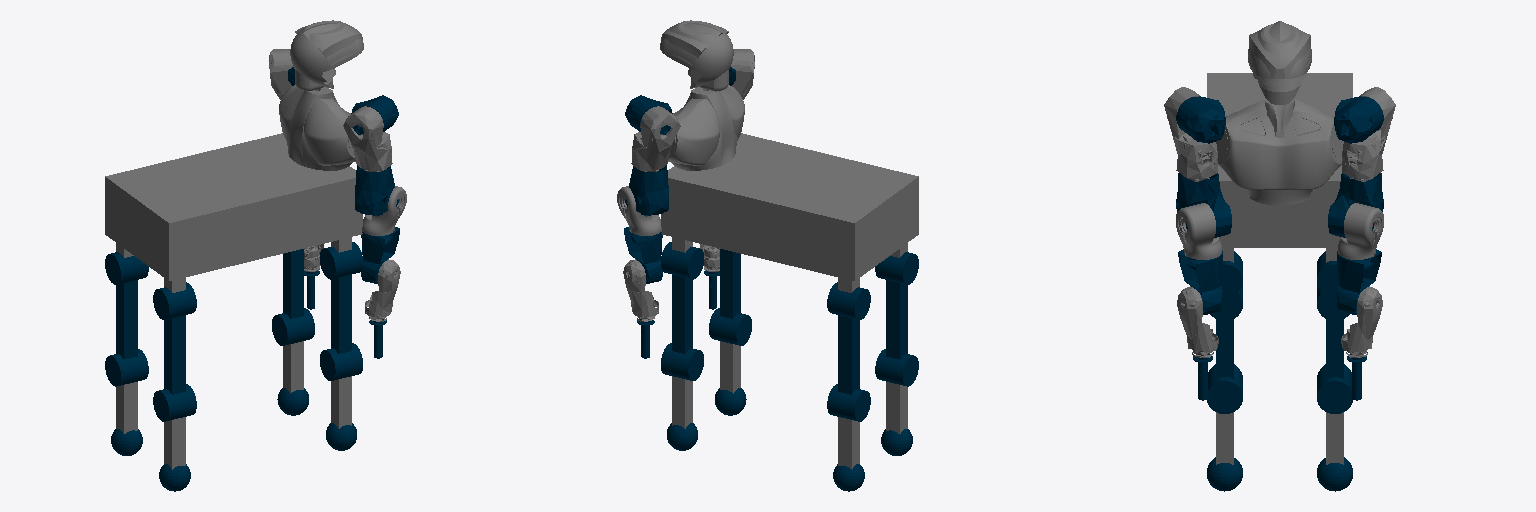
--- Facts derived from the render (not from the file) ---
3 views of the same robot in one strip: view 1: azimuth 30°, elevation 25°; view 2: azimuth 150°, elevation 25°; view 3: azimuth 270°, elevation 25° (orthographic).
Robot: centauro — 29 links, 28 joints (27 revolute, 1 floating); root link world; default pose: every joint at zero.
Visible links, largest first — view 1: pelvis, torso_2, knee_3, knee_4, knee_2, knee_1, hip2_3, hip2_2, hip2_4, arm2_2, arm2_3, hip2_1 (+5 smaller); view 2: pelvis, torso_2, knee_4, knee_3, knee_1, knee_2, hip2_4, hip2_1, hip2_3, arm1_2, arm1_3, hip2_2 (+5 smaller); view 3: torso_2, pelvis, knee_1, knee_2, arm1_2, arm2_2, hip2_1, hip2_2, arm1_4, arm2_4, arm1_1, arm2_1 (+6 smaller).
Boxes of the visible links, x1,y1,x2,y2 form: pelvis: [105, 133, 362, 280]; torso_2: [279, 20, 363, 170]; knee_3: [153, 384, 196, 491]; knee_4: [105, 349, 148, 455]; knee_2: [320, 343, 362, 450]; knee_1: [272, 308, 314, 415]; hip2_3: [153, 282, 196, 394]; hip2_2: [320, 242, 362, 353]; hip2_4: [105, 252, 148, 359]; arm2_2: [343, 106, 392, 171]; arm2_3: [355, 165, 398, 216]; hip2_1: [283, 249, 303, 318]; pelvis: [661, 133, 918, 280]; torso_2: [660, 20, 744, 170]; knee_4: [827, 384, 870, 491]; knee_3: [875, 349, 918, 455]; knee_1: [661, 343, 703, 450]; knee_2: [709, 308, 751, 415]; hip2_4: [827, 282, 870, 394]; hip2_1: [661, 242, 703, 353]; hip2_3: [875, 252, 918, 359]; arm1_2: [631, 106, 680, 171]; arm1_3: [625, 165, 668, 216]; hip2_2: [720, 249, 740, 318]; torso_2: [1216, 21, 1343, 205]; pelvis: [1207, 73, 1352, 247]; knee_1: [1317, 368, 1352, 491]; knee_2: [1207, 368, 1242, 491]; arm1_2: [1342, 87, 1395, 181]; arm2_2: [1164, 87, 1217, 181]; hip2_1: [1317, 251, 1343, 378]; hip2_2: [1216, 251, 1242, 378]; arm1_4: [1338, 203, 1383, 259]; arm2_4: [1176, 203, 1221, 259]; arm1_1: [1334, 96, 1383, 143]; arm2_1: [1176, 96, 1225, 143].
Bounding box of the posed robot: 0.8353 × 0.6319 × 1.4 m (x, y, z).
15 mesh visuals loaded from 8 distinct referenced files (8 binary STL).

The robot description file, URDF, robot "centauro":
<?xml version="1.0" ?>
<!-- =================================================================================== -->
<!-- |    This document was autogenerated by xacro from [local-path]/catkin_ws/src/centauro-simulator/centauro/centauro_urdf/urdf/centauro.urdf.xacro | -->
<!-- |    EDITING THIS FILE BY HAND IS NOT RECOMMENDED                                 | -->
<!-- =================================================================================== -->
<robot name="centauro" xmlns:xacro="http://www.ros.org/wiki/xacro">
  <!-- config -->
  <!--
<xacro:property name="ARMS" value="true"/>
<xacro:property name="TORSO" value="true" />
<xacro:property name="ARM_ACTUATORS" value="true"/> 
<xacro:property name="LEGS" value="true"/>
<xacro:property name="LEG_ACTUATORS" value="true"/>

<xacro:property name="TORSO_ACTUATORS" value="true"/>
<xacro:property name="WHEELS" value="true"/>
<xacro:property name="WHEELS_ACTUATORS" value="true"/>-->
  <!-- /config -->
  <!-- /constants -->
  <!-- CONTROLLER -->
  <gazebo>
    <plugin filename="libgazebo_ros_control.so" name="gazebo_ros_control">
      <robotNamespace>/centauro</robotNamespace>
      <robotSimType>gazebo_ros_control/DefaultRobotHWSim</robotSimType>
    </plugin>
  </gazebo>
  <!-- /CONTROLLER -->
  <!-- ARM SENSORS -->
  <!-- FORCE-TORQUE SENSORS -->
  <!--<gazebo>
    <plugin name="ft_sensor" filename="libgazebo_ros_ft_sensor.so">
        <updateRate>100.0</updateRate>
        <topicName>arm_</topicName>
        <jointName>foot_fixed_joint_1</jointName>
    </plugin>
</gazebo>-->
  <!-- /ARM SENSORS -->
  <!-- LEG SENSORS -->
  <!-- CONTACT SENSORS -->
  <gazebo reference="knee_1">
    <sensor name="foot_contact_sensor_1" type="contact">
      <always_on>true</always_on>
      <update_rate>1000.0</update_rate>
      <contact>
        <collision>knee_1_collision_1</collision>
      </contact>
      <plugin filename="libgazebo_ros_bumper.so" name="bumper_1">
        <bumperTopicName>raw_contacts_foot_1</bumperTopicName>
        <frameName>knee_1</frameName>
      </plugin>
    </sensor>
  </gazebo>
  <gazebo reference="knee_2">
    <sensor name="foot_contact_sensor_2" type="contact">
      <always_on>true</always_on>
      <update_rate>1000.0</update_rate>
      <contact>
        <collision>knee_2_collision_1</collision>
      </contact>
      <plugin filename="libgazebo_ros_bumper.so" name="bumper_2">
        <bumperTopicName>raw_contacts_foot_2</bumperTopicName>
        <frameName>knee_2</frameName>
      </plugin>
    </sensor>
  </gazebo>
  <gazebo reference="knee_3">
    <sensor name="foot_contact_sensor_3" type="contact">
      <always_on>true</always_on>
      <update_rate>1000.0</update_rate>
      <contact>
        <collision>knee_3_collision_1</collision>
      </contact>
      <plugin filename="libgazebo_ros_bumper.so" name="bumper_3">
        <bumperTopicName>raw_contacts_foot_3</bumperTopicName>
        <frameName>knee_3</frameName>
      </plugin>
    </sensor>
  </gazebo>
  <gazebo reference="knee_4">
    <sensor name="foot_contact_sensor_4" type="contact">
      <always_on>true</always_on>
      <update_rate>1000.0</update_rate>
      <contact>
        <collision>knee_4_collision_1</collision>
      </contact>
      <plugin filename="libgazebo_ros_bumper.so" name="bumper_4">
        <bumperTopicName>raw_contacts_foot_4</bumperTopicName>
        <frameName>knee_4</frameName>
      </plugin>
    </sensor>
  </gazebo>
  <!-- /CONTACT SENSORS -->
  <!-- FORCE-TORQUE SENSORS -->
  <!--<gazebo>
    <plugin name="ft_sensor" filename="libgazebo_ros_ft_sensor.so">
        <updateRate>100.0</updateRate>
        <topicName>ft_sensor_1</topicName>
        <jointName>foot_fixed_joint_1</jointName>
    </plugin>
</gazebo>-->
  <!-- The ft_sensor plugin -->
  <!--<gazebo>
    <plugin name="ft_sensor" filename="libgazebo_ros_ft_sensor.so">
        <updateRate>100.0</updateRate>
        <topicName>ft_sensor_2</topicName>
        <jointName>foot_fixed_joint_2</jointName>
    </plugin>
</gazebo>-->
  <!-- The ft_sensor plugin -->
  <!--<gazebo>
    <plugin name="ft_sensor" filename="libgazebo_ros_ft_sensor.so">
        <updateRate>100.0</updateRate>
        <topicName>ft_sensor_3</topicName>
        <jointName>foot_fixed_joint_3</jointName>
    </plugin>
</gazebo>-->
  <!-- The ft_sensor plugin -->
  <!--<gazebo>
    <plugin name="ft_sensor" filename="libgazebo_ros_ft_sensor.so">
        <updateRate>100.0</updateRate>
        <topicName>ft_sensor_4</topicName>
        <jointName>foot_fixed_joint_4</jointName>
    </plugin>
</gazebo>-->
  <!-- FORCE-TORQUE SENSORS -->
  <!-- /LEG SENSORS -->
  <!-- VISUALiZATION AND FRICTION -->
  <gazebo reference="base_link">
    <material>Gazebo/Red</material>
  </gazebo>
  <gazebo reference="pelvis">
    <material>Gazebo/Blue</material>
    <mu1>1</mu1>
    <mu2>1</mu2>
  </gazebo>
  <gazebo reference="torso_1">
    <mu1>1</mu1>
    <mu2>1</mu2>
    <material>Gazebo/Grey</material>
  </gazebo>
  <gazebo reference="torso_2">
    <material>Gazebo/Blue</material>
    <mu1>1</mu1>
    <mu2>1</mu2>
  </gazebo>
  <gazebo reference="hip1_1">
    <material>Gazebo/Grey</material>
    <mu1>1</mu1>
    <mu2>1</mu2>
  </gazebo>
  <gazebo reference="hip1_2">
    <material>Gazebo/Grey</material>
    <mu1>1</mu1>
    <mu2>1</mu2>
  </gazebo>
  <gazebo reference="hip1_3">
    <material>Gazebo/Grey</material>
    <mu1>1</mu1>
    <mu2>1</mu2>
  </gazebo>
  <gazebo reference="hip1_4">
    <material>Gazebo/Grey</material>
    <mu1>1</mu1>
    <mu2>1</mu2>
  </gazebo>
  <gazebo reference="hip2_1">
    <material>Gazebo/Blue</material>
    <mu1>1</mu1>
    <mu2>1</mu2>
  </gazebo>
  <gazebo reference="hip2_2">
    <material>Gazebo/Blue</material>
    <mu1>1</mu1>
    <mu2>1</mu2>
  </gazebo>
  <gazebo reference="hip2_3">
    <material>Gazebo/Blue</material>
    <mu1>1</mu1>
    <mu2>1</mu2>
  </gazebo>
  <gazebo reference="hip2_4">
    <material>Gazebo/Blue</material>
    <mu1>1</mu1>
    <mu2>1</mu2>
  </gazebo>
  <gazebo reference="knee_1">
    <material>Gazebo/Grey</material>
    <mu1>10</mu1>
    <mu2>10</mu2>
  </gazebo>
  <gazebo reference="knee_2">
    <material>Gazebo/Grey</material>
    <mu1>10</mu1>
    <mu2>10</mu2>
  </gazebo>
  <gazebo reference="knee_3">
    <material>Gazebo/Grey</material>
    <mu1>10</mu1>
    <mu2>10</mu2>
  </gazebo>
  <gazebo reference="knee_4">
    <material>Gazebo/Grey</material>
    <mu1>10</mu1>
    <mu2>10</mu2>
  </gazebo>
  <gazebo reference="arm1_1">
    <material>Gazebo/Blue</material>
    <mu1>0</mu1>
    <mu2>0</mu2>
  </gazebo>
  <gazebo reference="arm2_1">
    <material>Gazebo/Blue</material>
    <mu1>0</mu1>
    <mu2>0</mu2>
  </gazebo>
  <gazebo reference="arm1_2">
    <material>Gazebo/Grey</material>
    <mu1>0</mu1>
    <mu2>0</mu2>
  </gazebo>
  <gazebo reference="arm2_2">
    <material>Gazebo/Grey</material>
    <mu1>0</mu1>
    <mu2>0</mu2>
  </gazebo>
  <gazebo reference="arm1_3">
    <material>Gazebo/Blue</material>
    <mu1>0</mu1>
    <mu2>0</mu2>
  </gazebo>
  <gazebo reference="arm2_3">
    <material>Gazebo/Blue</material>
    <mu1>0</mu1>
    <mu2>0</mu2>
  </gazebo>
  <gazebo reference="arm1_4">
    <material>Gazebo/Grey</material>
    <mu1>0</mu1>
    <mu2>0</mu2>
  </gazebo>
  <gazebo reference="arm2_4">
    <material>Gazebo/Grey</material>
    <mu1>0</mu1>
    <mu2>0</mu2>
  </gazebo>
  <gazebo reference="arm1_5">
    <material>Gazebo/Blue</material>
    <mu1>0</mu1>
    <mu2>0</mu2>
  </gazebo>
  <gazebo reference="arm2_5">
    <material>Gazebo/Blue</material>
    <mu1>0</mu1>
    <mu2>0</mu2>
  </gazebo>
  <gazebo reference="arm1_6">
    <material>Gazebo/Grey</material>
    <mu1>0</mu1>
    <mu2>0</mu2>
  </gazebo>
  <gazebo reference="arm2_6">
    <material>Gazebo/Grey</material>
    <mu1>0</mu1>
    <mu2>0</mu2>
  </gazebo>
  <gazebo reference="arm1_7">
    <material>Gazebo/Blue</material>
    <mu1>0</mu1>
    <mu2>0</mu2>
  </gazebo>
  <gazebo reference="arm2_7">
    <material>Gazebo/Blue</material>
    <mu1>0</mu1>
    <mu2>0</mu2>
  </gazebo>
  <gazebo reference="wheel_hip_1">
    <material>Gazebo/Black</material>
  </gazebo>
  <gazebo reference="wheel_hip_2">
    <material>Gazebo/Black</material>
  </gazebo>
  <gazebo reference="wheel_hip_3">
    <material>Gazebo/Black</material>
  </gazebo>
  <gazebo reference="wheel_hip_4">
    <material>Gazebo/Black</material>
  </gazebo>
  <gazebo reference="wheel_knee_1">
    <material>Gazebo/Black</material>
  </gazebo>
  <gazebo reference="wheel_knee_2">
    <material>Gazebo/Black</material>
  </gazebo>
  <gazebo reference="wheel_knee_3">
    <material>Gazebo/Black</material>
  </gazebo>
  <gazebo reference="wheel_knee_4">
    <material>Gazebo/Black</material>
  </gazebo>
  <!-- /VISUALiZATION AND FRICTION -->
  <material name="grey">
    <color rgba="0.5 0.5 0.5 1"/>
  </material>
  <material name="dark_grey">
    <color rgba="0.3 0.3 0.3 1"/>
  </material>
  <material name="blue">
    <color rgba="0.0 0.2 0.3 1"/>
  </material>
  <material name="red">
    <color rgba="0.5 0.1 0.2 1"/>
  </material>
  <material name="black">
    <color rgba="0.0 0.0 0.0 1"/>
  </material>
  <!-- /macro legs -->
  <!-- /macro arms -->
  <!-- /other files -->
  <!-- reference -->
  <link name="world"/>
  <link name="pelvis">
    <inertial>
      <origin xyz="-0.0704 0.0 -0.0416"/>
      <!-- TODO -->
      <mass value="25.0"/>
      <!-- org: 25 -->
      <inertia ixx="0.242311" ixy="0.0" ixz="-0.233584" iyy="1.338707" iyz="0.0" izz="1.369479"/>
      <!-- TODO -->
    </inertial>
    <visual>
      <origin rpy="0.0 0.0 0.0" xyz="0 0 0"/>
      <geometry>
        <box size="0.70 0.40 0.20"/>
      </geometry>
      <material name="grey"/>
    </visual>
    <collision>
      <origin xyz="0 0 0"/>
      <geometry>
        <box rpy="0.0 0.0 0.0" size="0.70 0.40 0.20"/>
      </geometry>
      <material name="grey"/>
    </collision>
  </link>
  <joint name="reference" type="floating">
    <origin xyz="0 0 0.85"/>
    <parent link="world"/>
    <child link="pelvis"/>
  </joint>
  <!-- torso links -->
  <link name="torso_2">
    <inertial>
      <origin xyz="0.0 0.0 0.183333"/>
      <mass value="3.0"/>
      <!-- mass  7: torso_1 (2) + torso_2 (5), head un_modelled -->
      <inertia ixx="0.094335" ixy="8.5e-05" ixz="-3.1e-05" iyy="0.029946" iyz="1.7e-05" izz="0.068486"/>
      <!-- <inertia ixx="0.01" ixy="0.01" ixz="0.01" iyy="0.01" iyz="0.01" izz="0.01"/> -->
    </inertial>
    <visual>
      <origin rpy="0.0 0.0 0.0" xyz="0.0 0 0.0"/>
      <geometry>
        <mesh filename="package://centauro/centauro_urdf/meshes/link1.stl" scale="0.001 0.001 0.001"/>
      </geometry>
      <material name="grey"/>
    </visual>
    <collision>
      <origin rpy="0.0 0.0 0.0" xyz="0.0 0 0.0"/>
      <geometry>
        <mesh filename="package://centauro/centauro_urdf/meshes/convex_hull/link1.stl" scale="0.001 0.001 0.001"/>
      </geometry>
      <material name="grey"/>
    </collision>
  </link>
  <!-- /torso links -->
  <joint name="torso_yaw" type="revolute">
    <parent link="pelvis"/>
    <child link="torso_2"/>
    <origin xyz="0.30 0 0.1"/>
    <axis xyz="0 0 1"/>
    <limit effort="350" lower="-2.618" upper="2.618" velocity="6.5"/>
    <!-- TODO -->
  </joint>
  <!-- /torso joints -->
  <transmission name="t_torso_yaw">
    <type> transmission_interface/SimpleTransmission</type>
    <joint name="torso_yaw">
      <hardwareInterface>EffortJointInterface</hardwareInterface>
    </joint>
    <actuator name="motor_torso_yaw">
      <hardwareInterface>EffortJointInterface</hardwareInterface>
      <machanicalReduction>1</machanicalReduction>
    </actuator>
    <robotNamespace>/centauro</robotNamespace>
  </transmission>
  <!-- /torso actuators -->
  <!-- LINKS -->
  <!-- shoulder yaw-roll-->
  <link name="arm1_1">
    <inertial>
      <origin xyz="0.0 0.064706 0.0"/>
      <mass value="1.7"/>
      <!-- OK: 1.7 -->
      <inertia ixx="0.002332" ixy="0.0" ixz="0.0" iyy="0.001345" iyz="-0.0" izz="0.002332"/>
    </inertial>
    <visual>
      <origin rpy="0.0 0.0 0.0" xyz="0.0 0.0 0.0"/>
      <geometry>
        <mesh filename="package://centauro/centauro_urdf/meshes/link2.stl" scale="0.001 -0.001 0.001"/>
      </geometry>
      <material name="blue"/>
    </visual>
    <collision>
      <origin rpy="0.0 0.0 0.0" xyz="0.0 0.0 0.0"/>
      <geometry>
        <mesh filename="package://centauro/centauro_urdf/meshes/convex_hull/link2.stl" scale="0.001 -0.001 0.001"/>
      </geometry>
      <material name="blue"/>
    </collision>
  </link>
  <!-- shoulder yaw-roll-->
  <!-- shoulder roll-pitch-->
  <link name="arm1_2">
    <inertial>
      <origin xyz="0.0 0.0 -0.125"/>
      <mass value="2.0"/>
      <!-- OK: 2 -->
      <inertia ixx="0.005879" ixy="0.0" ixz="0.0" iyy="0.005879" iyz="0.0" izz="0.001525"/>
    </inertial>
    <visual>
      <origin rpy="0.0 0.0 0.0" xyz="0.0 0.0 0.0"/>
      <geometry>
        <mesh filename="package://centauro/centauro_urdf/meshes/link3.stl" scale="0.001 -0.001 0.001"/>
      </geometry>
      <material name="grey"/>
    </visual>
    <collision>
      <origin rpy="0.0 0.0 0.0" xyz="0.0 0.0 0.0"/>
      <geometry>
        <mesh filename="package://centauro/centauro_urdf/meshes/convex_hull/link3.stl" scale="0.001 -0.001 0.001"/>
      </geometry>
      <material name="grey"/>
    </collision>
  </link>
  <!-- shoulder roll-pitch-->
  <!-- shoulder-elbow -->
  <link name="arm1_3">
    <inertial>
      <origin xyz="0.0 0.0 -0.09375"/>
      <mass value="2.0"/>
      <!-- OK: 2 -->
      <inertia ixx="0.003989" ixy="0.0" ixz="0.0" iyy="0.003884" iyz="-0.0" izz="0.001629"/>
      <!-- TODO -->
    </inertial>
    <visual>
      <origin rpy="0.0 0.0 0.0" xyz="0.0 0.0 0.0"/>
      <geometry>
        <mesh filename="package://centauro/centauro_urdf/meshes/link4.stl" scale="0.001 -0.001 0.001"/>
      </geometry>
      <material name="blue"/>
    </visual>
    <collision>
      <origin rpy="0.0 0.0 0.0" xyz="0.0 0.0 0.0"/>
      <geometry>
        <mesh filename="package://centauro/centauro_urdf/meshes/convex_hull/link4.stl" scale="0.001 -0.001 0.001"/>
      </geometry>
      <material name="blue"/>
    </collision>
  </link>
  <!-- /shoulder-elbow -->
  <!-- elbow yaw-pitch -->
  <link name="arm1_4">
    <inertial>
      <origin xyz="0.0 0.0 -0.09"/>
      <mass value="1.3"/>
      <!-- OK: 1.3 -->
      <inertia ixx="0.002589" ixy="0.0" ixz="0.0" iyy="0.002589" iyz="0.0" izz="0.001105"/>
    </inertial>
    <visual>
      <origin rpy="0.0 0.0 0.0" xyz="0.0 0.0 0.0"/>
      <geometry>
        <mesh filename="package://centauro/centauro_urdf/meshes/link5.stl" scale="0.001 -0.001 0.001"/>
      </geometry>
      <material name="grey"/>
    </visual>
    <collision>
      <origin rpy="0.0 0.0 0.0" xyz="0.0 0.0 0.0"/>
      <geometry>
        <mesh filename="package://centauro/centauro_urdf/meshes/convex_hull/link5.stl" scale="0.001 -0.001 0.001"/>
      </geometry>
      <material name="grey"/>
    </collision>
  </link>
  <!-- /elbow yaw-pitch -->
  <!-- elbow-wrist -->
  <link name="arm1_5">
    <inertial>
      <origin xyz="0.0 0.0 -0.067857"/>
      <mass value="1.4"/>
      <!-- OK: 1.4 -->
      <inertia ixx="0.002073" ixy="0.0" ixz="0.0" iyy="0.001969" iyz="-0.0" izz="0.001269"/>
    </inertial>
    <visual>
      <origin rpy="0.0 0.0 0.0" xyz="0.0 0.0 0.0"/>
      <geometry>
        <mesh filename="package://centauro/centauro_urdf/meshes/link6.stl" scale="0.001 -0.001 0.001"/>
      </geometry>
      <material name="blue"/>
    </visual>
    <collision>
      <origin rpy="0.0 0.0 0.0" xyz="0.0 0.0 0.0"/>
      <geometry>
        <mesh filename="package://centauro/centauro_urdf/meshes/convex_hull/link6.stl" scale="0.001 -0.001 0.001"/>
      </geometry>
      <material name="blue"/>
    </collision>
  </link>
  <!-- /elbow-wrist -->
  <!-- wrist yaw-pitch -->
  <link name="arm1_6">
    <inertial>
      <origin xyz="0.0 0.0 -0.094545"/>
      <mass value="1.1"/>
      <!-- OK: 1.1 -->
      <inertia ixx="0.002301" ixy="0.0" ixz="0.0" iyy="0.002301" iyz="0.0" izz="0.000985"/>
    </inertial>
    <visual>
      <origin rpy="0.0 0.0 0.0" xyz="0.0 0.0 0.0"/>
      <geometry>
        <mesh filename="package://centauro/centauro_urdf/meshes/link7.stl" scale="0.001 -0.001 0.001"/>
      </geometry>
      <material name="grey"/>
    </visual>
    <collision>
      <origin rpy="0.0 0.0 0.0" xyz="0.0 0.0 0.0"/>
      <geometry>
        <mesh filename="package://centauro/centauro_urdf/meshes/convex_hull/link7.stl" scale="0.001 -0.001 0.001"/>
      </geometry>
      <material name="grey"/>
    </collision>
  </link>
  <!-- /wrist yaw-pitch -->
  <link name="arm1_7">
    <inertial>
      <origin xyz="0.0 0.0 -0.075"/>
      <mass value="1.7"/>
      <!-- OK: 1.7 -->
      <inertia ixx="0.001303" ixy="0.0" ixz="0.0" iyy="0.001303" iyz="0.0" izz="0.00102"/>
    </inertial>
    <visual>
      <origin rpy="0.0 0.0 0.0" xyz="0.0 0.0 0.0"/>
      <geometry>
        <mesh filename="package://centauro/centauro_urdf/meshes/link8.stl" scale="0.001 -0.001 0.001"/>
      </geometry>
      <material name="blue"/>
    </visual>
    <collision>
      <origin rpy="0.0 0.0 0.0" xyz="0.0 0.0 0.0"/>
      <geometry>
        <mesh filename="package://centauro/centauro_urdf/meshes/convex_hull/link8.stl" scale="0.001 -0.001 0.001"/>
      </geometry>
      <material name="blue"/>
    </collision>
  </link>
  <!--   <link name="mass${arm_num}_body">
      <inertial>
         <origin xyz="0 0 0"/> -->
  <!--         <mass value="10"/> -->
  <!-- OK: 1.7 -->
  <!--         <inertia ixx="0.001" ixy="0.00" ixz="0.00" iyy="0.001" iyz="0.00" izz="0.001"/>
      </inertial>
	
      <visual>
         <origin xyz="0.0 0.0 0"/>
         <geometry>
            <box size="0.10 0.10 0.10"/>-->
  <!-- OK -->
  <!--         </geometry>
         <material name="red"/>
      </visual>

   </link> -->
  <!-- /hand -->
  <!-- /LINKS -->
  <!-- JOINTS -->
  <!-- shoulder yaw -->
  <joint name="j_arm1_1" type="revolute">
    <parent link="torso_2"/>
    <child link="arm1_1"/>
    <origin rpy="0.0 0 -0.5236026689864071" xyz="0.04576 0.169137 0.190626"/>
    <axis xyz="0 0.984807753012 0.173648177667"/>
    <limit effort="350" lower="-3.403" upper="1.658" velocity="6.5"/>
  </joint>
  <!-- /shoulder yaw -->
  <!-- shoulder roll -->
  <joint name="j_arm1_2" type="revolute">
    <parent link="arm1_1"/>
    <child link="arm1_2"/>
    <origin xyz="-0.09115 0.06106 0.010766"/>
    <axis xyz="-1 0 0"/>
    <limit effort="350" lower="-3.49" upper="0" velocity="6.5"/>
    <!-- TODO -->
  </joint>
  <!-- /shoulder roll -->
  <!-- shoulder pitch-->
  <joint name="j_arm1_3" type="revolute">
    <parent link="arm1_2"/>
    <child link="arm1_3"/>
    <origin xyz="0.09115 0 -0.21915"/>
    <axis xyz="0 0 -1"/>
    <limit effort="350" lower="-2.618" upper="2.618" velocity="6.5"/>
    <!-- TODO -->
  </joint>
  <!-- /shoulder pitch -->
  <!-- elbow yaw -->
  <joint name="j_arm1_4" type="revolute">
    <parent link="arm1_3"/>
    <child link="arm1_4"/>
    <origin xyz="0.040 0.05615 -0.074"/>
    <axis xyz="0 1 0"/>
    <limit effort="350" lower="-2.530" upper="0.349" velocity="6.5"/>
    <!-- TODO -->
  </joint>
  <!-- /elbow yaw -->
  <!-- elbow pitch-->
  <joint name="j_arm1_5" type="revolute">
    <parent link="arm1_4"/>
    <child link="arm1_5"/>
    <origin xyz="-0.015 -0.05615 -0.061"/>
    <axis xyz="0 0 -1"/>
    <limit effort="350" lower="-2.618" upper="2.618" velocity="6.5"/>
    <!-- TODO -->
  </joint>
  <!-- /elbow pitch-->
  <!-- wrist yaw-->
  <joint name="j_arm1_6" type="revolute">
    <parent link="arm1_5"/>
    <child link="arm1_6"/>
    <origin xyz="0 0.049 -0.180"/>
    <axis xyz="0 1 0"/>
    <limit effort="350" lower="-1.570" upper="1.570" velocity="6.5"/>
    <!-- TODO -->
  </joint>
  <!-- /wrist yaw-->
  <!-- wrist pitch-->
  <joint name="j_arm1_7" type="revolute">
    <parent link="arm1_6"/>
    <child link="arm1_7"/>
    <origin xyz="0 -0.049 -0.169"/>
    <axis xyz="0 0 -1"/>
    <limit effort="350" lower="-2.618" upper="2.618" velocity="6.5"/>
    <!-- TODO -->
  </joint>
  <!-- wrist pitch-->
  <transmission name="t_j_arm1_1">
    <type> transmission_interface/SimpleTransmission</type>
    <joint name="j_arm1_1">
      <hardwareInterface>EffortJointInterface</hardwareInterface>
    </joint>
    <actuator name="motor_j_arm1_1">
      <hardwareInterface>EffortJointInterface</hardwareInterface>
      <machanicalReduction>1</machanicalReduction>
    </actuator>
    <robotNamespace>/centauro</robotNamespace>
  </transmission>
  <transmission name="t_j_arm1_2">
    <type> transmission_interface/SimpleTransmission</type>
    <joint name="j_arm1_2">
      <hardwareInterface>EffortJointInterface</hardwareInterface>
    </joint>
    <actuator name="motor_j_arm1_2">
      <hardwareInterface>EffortJointInterface</hardwareInterface>
      <machanicalReduction>1</machanicalReduction>
    </actuator>
    <robotNamespace>/centauro</robotNamespace>
  </transmission>
  <transmission name="t_j_arm1_3">
    <type> transmission_interface/SimpleTransmission</type>
    <joint name="j_arm1_3">
      <hardwareInterface>EffortJointInterface</hardwareInterface>
    </joint>
    <actuator name="motor_j_arm1_3">
      <hardwareInterface>EffortJointInterface</hardwareInterface>
      <machanicalReduction>1</machanicalReduction>
    </actuator>
    <robotNamespace>/centauro</robotNamespace>
  </transmission>
  <transmission name="t_j_arm1_4">
    <type> transmission_interface/SimpleTransmission</type>
    <joint name="j_arm1_4">
      <hardwareInterface>EffortJointInterface</hardwareInterface>
    </joint>
    <actuator name="motor_j_arm1_4">
      <hardwareInterface>EffortJointInterface</hardwareInterface>
      <machanicalReduction>1</machanicalReduction>
    </actuator>
    <robotNamespace>/centauro</robotNamespace>
  </transmission>
  <transmission name="t_j_arm1_5">
    <type> transmission_interface/SimpleTransmission</type>
    <joint name="j_arm1_5">
      <hardwareInterface>EffortJointInterface</hardwareInterface>
    </joint>
    <actuator name="motor_j_arm1_5">
      <hardwareInterface>EffortJointInterface</hardwareInterface>
      <machanicalReduction>1</machanicalReduction>
    </actuator>
    <robotNamespace>/centauro</robotNamespace>
  </transmission>
  <transmission name="t_j_arm1_6">
    <type> transmission_interface/SimpleTransmission</type>
    <joint name="j_arm1_6">
      <hardwareInterface>EffortJointInterface</hardwareInterface>
    </joint>
    <actuator name="motor_j_arm1_6">
      <hardwareInterface>EffortJointInterface</hardwareInterface>
      <machanicalReduction>1</machanicalReduction>
    </actuator>
    <robotNamespace>/centauro</robotNamespace>
  </transmission>
  <transmission name="t_j_arm1_7">
    <type> transmission_interface/SimpleTransmission</type>
    <joint name="j_arm1_7">
      <hardwareInterface>EffortJointInterface</hardwareInterface>
    </joint>
    <actuator name="motor_j_arm1_7">
      <hardwareInterface>EffortJointInterface</hardwareInterface>
      <machanicalReduction>1</machanicalReduction>
    </actuator>
    <robotNamespace>/centauro</robotNamespace>
  </transmission>
  <!-- /actuators -->
  <!-- /end-effector -->
  <!-- LINKS -->
  <!-- shoulder yaw-roll-->
  <link name="arm2_1">
    <inertial>
      <origin xyz="0.0 -0.064706 0.0"/>
      <mass value="1.7"/>
      <!-- OK: 1.7 -->
      <inertia ixx="0.002332" ixy="0.0" ixz="0.0" iyy="0.001345" iyz="-0.0" izz="0.002332"/>
    </inertial>
    <visual>
      <origin rpy="0.0 0.0 0.0" xyz="0.0 0.0 0.0"/>
      <geometry>
        <mesh filename="package://centauro/centauro_urdf/meshes/link2.stl" scale="0.001 0.001 0.001"/>
      </geometry>
      <material name="blue"/>
    </visual>
    <collision>
      <origin rpy="0.0 0.0 0.0" xyz="0.0 0.0 0.0"/>
      <geometry>
        <mesh filename="package://centauro/centauro_urdf/meshes/convex_hull/link2.stl" scale="0.001 0.001 0.001"/>
      </geometry>
      <material name="blue"/>
    </collision>
  </link>
  <!-- shoulder yaw-roll-->
  <!-- shoulder roll-pitch-->
  <link name="arm2_2">
    <inertial>
      <origin xyz="0.0 -0.0 -0.125"/>
      <mass value="2.0"/>
      <!-- OK: 2 -->
      <inertia ixx="0.005879" ixy="0.0" ixz="0.0" iyy="0.005879" iyz="0.0" izz="0.001525"/>
    </inertial>
    <visual>
      <origin rpy="0.0 0.0 0.0" xyz="0.0 0.0 0.0"/>
      <geometry>
        <mesh filename="package://centauro/centauro_urdf/meshes/link3.stl" scale="0.001 0.001 0.001"/>
      </geometry>
      <material name="grey"/>
    </visual>
    <collision>
      <origin rpy="0.0 0.0 0.0" xyz="0.0 0.0 0.0"/>
      <geometry>
        <mesh filename="package://centauro/centauro_urdf/meshes/convex_hull/link3.stl" scale="0.001 0.001 0.001"/>
      </geometry>
      <material name="grey"/>
    </collision>
  </link>
  <!-- shoulder roll-pitch-->
  <!-- shoulder-elbow -->
  <link name="arm2_3">
    <inertial>
      <origin xyz="0.0 -0.0 -0.09375"/>
      <mass value="2.0"/>
      <!-- OK: 2 -->
      <inertia ixx="0.003989" ixy="0.0" ixz="0.0" iyy="0.003884" iyz="-0.0" izz="0.001629"/>
      <!-- TODO -->
    </inertial>
    <visual>
      <origin rpy="0.0 0.0 0.0" xyz="0.0 0.0 0.0"/>
      <geometry>
        <mesh filename="package://centauro/centauro_urdf/meshes/link4.stl" scale="0.001 0.001 0.001"/>
      </geometry>
      <material name="blue"/>
    </visual>
    <collision>
      <origin rpy="0.0 0.0 0.0" xyz="0.0 0.0 0.0"/>
      <geometry>
        <mesh filename="package://centauro/centauro_urdf/meshes/convex_hull/link4.stl" scale="0.001 0.001 0.001"/>
      </geometry>
      <material name="blue"/>
    </collision>
  </link>
  <!-- /shoulder-elbow -->
  <!-- elbow yaw-pitch -->
  <link name="arm2_4">
    <inertial>
      <origin xyz="0.0 -0.0 -0.09"/>
      <mass value="1.3"/>
      <!-- OK: 1.3 -->
      <inertia ixx="0.002589" ixy="0.0" ixz="0.0" iyy="0.002589" iyz="0.0" izz="0.001105"/>
    </inertial>
    <visual>
      <origin rpy="0.0 0.0 0.0" xyz="0.0 0.0 0.0"/>
      <geometry>
        <mesh filename="package://centauro/centauro_urdf/meshes/link5.stl" scale="0.001 0.001 0.001"/>
      </geometry>
      <material name="grey"/>
    </visual>
    <collision>
      <origin rpy="0.0 0.0 0.0" xyz="0.0 0.0 0.0"/>
      <geometry>
        <mesh filename="package://centauro/centauro_urdf/meshes/convex_hull/link5.stl" scale="0.001 0.001 0.001"/>
      </geometry>
      <material name="grey"/>
    </collision>
  </link>
  <!-- /elbow yaw-pitch -->
  <!-- elbow-wrist -->
  <link name="arm2_5">
    <inertial>
      <origin xyz="0.0 0.0 -0.067857"/>
      <mass value="1.4"/>
      <!-- OK: 1.4 -->
      <inertia ixx="0.002073" ixy="0.0" ixz="0.0" iyy="0.001969" iyz="-0.0" izz="0.001269"/>
    </inertial>
    <visual>
      <origin rpy="0.0 0.0 0.0" xyz="0.0 0.0 0.0"/>
      <geometry>
        <mesh filename="package://centauro/centauro_urdf/meshes/link6.stl" scale="0.001 0.001 0.001"/>
      </geometry>
      <material name="blue"/>
    </visual>
    <collision>
      <origin rpy="0.0 0.0 0.0" xyz="0.0 0.0 0.0"/>
      <geometry>
        <mesh filename="package://centauro/centauro_urdf/meshes/convex_hull/link6.stl" scale="0.001 0.001 0.001"/>
      </geometry>
      <material name="blue"/>
    </collision>
  </link>
  <!-- /elbow-wrist -->
  <!-- wrist yaw-pitch -->
  <link name="arm2_6">
    <inertial>
      <origin xyz="0.0 0.0 -0.094545"/>
      <mass value="1.1"/>
      <!-- OK: 1.1 -->
      <inertia ixx="0.002301" ixy="0.0" ixz="0.0" iyy="0.002301" iyz="0.0" izz="0.000985"/>
    </inertial>
    <visual>
      <origin rpy="0.0 0.0 0.0" xyz="0.0 0.0 0.0"/>
      <geometry>
        <mesh filename="package://centauro/centauro_urdf/meshes/link7.stl" scale="0.001 0.001 0.001"/>
      </geometry>
      <material name="grey"/>
    </visual>
    <collision>
      <origin rpy="0.0 0.0 0.0" xyz="0.0 0.0 0.0"/>
      <geometry>
        <mesh filename="package://centauro/centauro_urdf/meshes/convex_hull/link7.stl" scale="0.001 0.001 0.001"/>
      </geometry>
      <material name="grey"/>
    </collision>
  </link>
  <!-- /wrist yaw-pitch -->
  <link name="arm2_7">
    <inertial>
      <origin xyz="0.0 0.0 -0.075"/>
      <mass value="1.7"/>
      <!-- OK: 1.7 -->
      <inertia ixx="0.001303" ixy="0.0" ixz="0.0" iyy="0.001303" iyz="0.0" izz="0.00102"/>
    </inertial>
    <visual>
      <origin rpy="0.0 0.0 0.0" xyz="0.0 0.0 0.0"/>
      <geometry>
        <mesh filename="package://centauro/centauro_urdf/meshes/link8.stl" scale="0.001 0.001 0.001"/>
      </geometry>
      <material name="blue"/>
    </visual>
    <collision>
      <origin rpy="0.0 0.0 0.0" xyz="0.0 0.0 0.0"/>
      <geometry>
        <mesh filename="package://centauro/centauro_urdf/meshes/convex_hull/link8.stl" scale="0.001 0.001 0.001"/>
      </geometry>
      <material name="blue"/>
    </collision>
  </link>
  <!--   <link name="mass${arm_num}_body">
      <inertial>
         <origin xyz="0 0 0"/> -->
  <!--         <mass value="10"/> -->
  <!-- OK: 1.7 -->
  <!--         <inertia ixx="0.001" ixy="0.00" ixz="0.00" iyy="0.001" iyz="0.00" izz="0.001"/>
      </inertial>
	
      <visual>
         <origin xyz="0.0 0.0 0"/>
         <geometry>
            <box size="0.10 0.10 0.10"/>-->
  <!-- OK -->
  <!--         </geometry>
         <material name="red"/>
      </visual>

   </link> -->
  <!-- /hand -->
  <!-- /LINKS -->
  <!-- JOINTS -->
  <!-- shoulder yaw -->
  <joint name="j_arm2_1" type="revolute">
    <parent link="torso_2"/>
    <child link="arm2_1"/>
    <origin rpy="0.0 0 0.5236026689864071" xyz="0.0457475 -0.169137 0.190626"/>
    <axis xyz="0 -0.984807753012 0.173648177667"/>
    <limit effort="350" lower="-1.658" upper="3.403" velocity="6.5"/>
  </joint>
  <!-- /shoulder yaw -->
  <!-- shoulder roll -->
  <joint name="j_arm2_2" type="revolute">
    <parent link="arm2_1"/>
    <child link="arm2_2"/>
    <origin xyz="-0.09115 -0.06106 0.010766"/>
    <axis xyz="-1 0 0"/>
    <limit effort="350" lower="0" upper="3.49" velocity="6.5"/>
    <!-- TODO -->
  </joint>
  <!-- /shoulder roll -->
  <!-- shoulder pitch-->
  <joint name="j_arm2_3" type="revolute">
    <parent link="arm2_2"/>
    <child link="arm2_3"/>
    <origin xyz="0.09115 0 -0.21915"/>
    <axis xyz="0 0 -1"/>
    <limit effort="350" lower="-2.618" upper="2.618" velocity="6.5"/>
    <!-- TODO -->
  </joint>
  <!-- /shoulder pitch -->
  <!-- elbow yaw -->
  <joint name="j_arm2_4" type="revolute">
    <parent link="arm2_3"/>
    <child link="arm2_4"/>
    <origin xyz="0.040 -0.05615 -0.074"/>
    <axis xyz="0 -1 0"/>
    <limit effort="350" lower="-0.349" upper="2.530" velocity="6.5"/>
    <!-- TODO -->
  </joint>
  <!-- /elbow yaw -->
  <!-- elbow pitch-->
  <joint name="j_arm2_5" type="revolute">
    <parent link="arm2_4"/>
    <child link="arm2_5"/>
    <origin xyz="-0.015 0.05615 -0.061"/>
    <axis xyz="0 0 -1"/>
    <limit effort="350" lower="-2.618" upper="2.618" velocity="6.5"/>
    <!-- TODO -->
  </joint>
  <!-- /elbow pitch-->
  <!-- wrist yaw-->
  <joint name="j_arm2_6" type="revolute">
    <parent link="arm2_5"/>
    <child link="arm2_6"/>
    <origin xyz="0 -0.049 -0.180"/>
    <axis xyz="0 -1 0"/>
    <limit effort="350" lower="-1.570" upper="1.570" velocity="6.5"/>
    <!-- TODO -->
  </joint>
  <!-- /wrist yaw-->
  <!-- wrist pitch-->
  <joint name="j_arm2_7" type="revolute">
    <parent link="arm2_6"/>
    <child link="arm2_7"/>
    <origin xyz="0 0.049 -0.169"/>
    <axis xyz="0 0 -1"/>
    <limit effort="350" lower="-2.618" upper="2.618" velocity="6.5"/>
    <!-- TODO -->
  </joint>
  <!-- wrist pitch-->
  <transmission name="t_j_arm2_1">
    <type> transmission_interface/SimpleTransmission</type>
    <joint name="j_arm2_1">
      <hardwareInterface>EffortJointInterface</hardwareInterface>
    </joint>
    <actuator name="motor_j_arm2_1">
      <hardwareInterface>EffortJointInterface</hardwareInterface>
      <machanicalReduction>1</machanicalReduction>
    </actuator>
    <robotNamespace>/centauro</robotNamespace>
  </transmission>
  <transmission name="t_j_arm2_2">
    <type> transmission_interface/SimpleTransmission</type>
    <joint name="j_arm2_2">
      <hardwareInterface>EffortJointInterface</hardwareInterface>
    </joint>
    <actuator name="motor_j_arm2_2">
      <hardwareInterface>EffortJointInterface</hardwareInterface>
      <machanicalReduction>1</machanicalReduction>
    </actuator>
    <robotNamespace>/centauro</robotNamespace>
  </transmission>
  <transmission name="t_j_arm2_3">
    <type> transmission_interface/SimpleTransmission</type>
    <joint name="j_arm2_3">
      <hardwareInterface>EffortJointInterface</hardwareInterface>
    </joint>
    <actuator name="motor_j_arm2_3">
      <hardwareInterface>EffortJointInterface</hardwareInterface>
      <machanicalReduction>1</machanicalReduction>
    </actuator>
    <robotNamespace>/centauro</robotNamespace>
  </transmission>
  <transmission name="t_j_arm2_4">
    <type> transmission_interface/SimpleTransmission</type>
    <joint name="j_arm2_4">
      <hardwareInterface>EffortJointInterface</hardwareInterface>
    </joint>
    <actuator name="motor_j_arm2_4">
      <hardwareInterface>EffortJointInterface</hardwareInterface>
      <machanicalReduction>1</machanicalReduction>
    </actuator>
    <robotNamespace>/centauro</robotNamespace>
  </transmission>
  <transmission name="t_j_arm2_5">
    <type> transmission_interface/SimpleTransmission</type>
    <joint name="j_arm2_5">
      <hardwareInterface>EffortJointInterface</hardwareInterface>
    </joint>
    <actuator name="motor_j_arm2_5">
      <hardwareInterface>EffortJointInterface</hardwareInterface>
      <machanicalReduction>1</machanicalReduction>
    </actuator>
    <robotNamespace>/centauro</robotNamespace>
  </transmission>
  <transmission name="t_j_arm2_6">
    <type> transmission_interface/SimpleTransmission</type>
    <joint name="j_arm2_6">
      <hardwareInterface>EffortJointInterface</hardwareInterface>
    </joint>
    <actuator name="motor_j_arm2_6">
      <hardwareInterface>EffortJointInterface</hardwareInterface>
      <machanicalReduction>1</machanicalReduction>
    </actuator>
    <robotNamespace>/centauro</robotNamespace>
  </transmission>
  <transmission name="t_j_arm2_7">
    <type> transmission_interface/SimpleTransmission</type>
    <joint name="j_arm2_7">
      <hardwareInterface>EffortJointInterface</hardwareInterface>
    </joint>
    <actuator name="motor_j_arm2_7">
      <hardwareInterface>EffortJointInterface</hardwareInterface>
      <machanicalReduction>1</machanicalReduction>
    </actuator>
    <robotNamespace>/centauro</robotNamespace>
  </transmission>
  <!-- /actuators -->
  <!-- /end-effector -->
  <!-- /arms -->
  <!-- /torso -->
  <link name="hip1_1">
    <inertial>
      <origin xyz="0.0 0.0 -0.175"/>
      <!-- TODO -->
      <mass value="2.0"/>
      <!-- org: 2 -->
      <inertia ixx="0.006237" ixy="0.0" ixz="0.0" iyy="0.005925" iyz="-0.0" izz="0.002488"/>
      <!-- <inertia ixx="0.01" ixy="0.01" ixz="0.01" iyy="0.01" iyz="0.01" izz="0.01"/> -->
    </inertial>
    <visual>
      <origin xyz="0 0 -0.1"/>
      <geometry>
        <box size="0.05 0.05 0.2"/>
        <!-- OK: from hip-yaw to pelvis (0.1) + from plevis to hip-pitch (0.1)-->
      </geometry>
      <material name="grey"/>
    </visual>
    <visual>
      <origin rpy="0 0 0" xyz="0 0 0"/>
      <geometry>
        <cylinder length="0.1" radius="0.05"/>
      </geometry>
      <material name="grey"/>
    </visual>
    <collision>
      <origin xyz="0 0 -0.1"/>
      <geometry>
        <box size="0.05 0.05 0.15"/>
        <!-- OK: from hip-yaw to pelvis (0.1) + from plevis to hip-pitch (0.1)-->
      </geometry>
      <material name="grey"/>
    </collision>
    <!-- <collision>
		<origin xyz="0 0 0" rpy="0 0 0" />
		<geometry>
			<cylinder length="${motors_length}" radius="${motors_radius}"/>
		</geometry>
		<material name="grey"/>
	</collision> -->
  </link>
  <link name="hip2_1">
    <inertial>
      <origin xyz="0.0 0.0 -0.233333"/>
      <mass value="4.5"/>
      <!-- org: 4.5 -->
      <inertia ixx="0.037113" ixy="0.0" ixz="0.0" iyy="0.0368" iyz="-0.0" izz="0.003988"/>
      <!-- <inertia ixx="0.01" ixy="0.01" ixz="0.01" iyy="0.01" iyz="0.01" izz="0.01"/> -->
    </inertial>
    <visual>
      <origin xyz="0 0 -0.175"/>
      <geometry>
        <box size="0.05 0.05 0.35"/>
        <!-- OK -->
      </geometry>
      <material name="blue"/>
    </visual>
    <visual>
      <origin rpy="1.5707963268 0 0" xyz="0 0 0"/>
      <geometry>
        <cylinder length="0.1" radius="0.05"/>
      </geometry>
      <material name="blue"/>
    </visual>
    <collision>
      <origin xyz="0 0 -0.175"/>
      <geometry>
        <box size="0.05 0.05 0.3"/>
        <!-- OK -->
      </geometry>
      <material name="blue"/>
    </collision>
    <!-- <collision>
		<origin xyz="0 0 0" rpy="${PI/2} 0 0" />
		<geometry>
			<cylinder length="${motors_length}" radius="${motors_radius}"/>
		</geometry>
		<material name="blue"/>
	</collision> -->
  </link>
  <link name="knee_1">
    <inertial>
      <origin xyz="0.0 0.0 -0.15"/>
      <!-- TODO -->
      <mass value="3.5"/>
      <!-- org: 3.5, foot un modeled-->
      <inertia ixx="0.004433" ixy="0.0" ixz="0.0" iyy="0.004433" iyz="0.0" izz="0.0021"/>
      <!--	<inertia ixx="0.01" ixy="0.01" ixz="0.01" iyy="0.01" iyz="0.01" izz="0.01"/>  -->
    </inertial>
    <visual>
      <origin xyz="0 0 -0.125"/>
      <geometry>
        <box size="0.05 0.05 0.25"/>
        <!-- OK: foot un modeled-->
      </geometry>
      <material name="grey"/>
    </visual>
    <visual>
      <origin rpy="1.5707963268 0 0" xyz="0 0 0"/>
      <geometry>
        <cylinder length="0.1" radius="0.05"/>
      </geometry>
      <material name="blue"/>
    </visual>
    <visual>
      <origin xyz="0 0 -0.25"/>
      <geometry>
        <sphere radius="0.05"/>
      </geometry>
      <material name="blue"/>
    </visual>
    <collision>
      <origin xyz="0 0 -0.125"/>
      <geometry>
        <box size="0.05 0.05 0.2"/>
        <!-- OK: foot un modeled-->
      </geometry>
      <material name="grey"/>
    </collision>
    <!--	<collision>
		<origin xyz="0 0 0" rpy="${PI/2} 0 0" />
		<geometry>
			<cylinder length="${motors_length}" radius="${motors_radius}"/>
		</geometry>
		<material name="blue"/>
	</collision> -->
    <collision>
      <origin xyz="0 0 -0.25"/>
      <geometry>
        <sphere radius="0.05"/>
      </geometry>
      <material name="blue"/>
    </collision>
  </link>
  <!-- ftsensor -->
  <!--<link name="ft_foot_${leg_num}">
  <inertial>
    <mass value="0.001"/>
    <origin xyz="0 0 0"/>
    <inertia ixx="1.0E-6" ixy="0" ixz="0" iyy="1.0E-6" iyz="0" izz="1.0E-6"/>
  </inertial>
  <visual>
      <origin rpy="0 0 0" xyz="0 0 0"/>
      <geometry>
        <box size="0.01 0.01 0.01"/>
      </geometry>
  </visual>
</link>-->
  <!-- /wheels -->
  <joint name="hip_yaw_1" type="revolute">
    <parent link="pelvis"/>
    <child link="hip1_1"/>
    <origin rpy="0 0 1.5707963268" xyz="0.3 0.15 0"/>
    <axis xyz="0 0 -1"/>
    <limit effort="350" lower="-2.09" upper="2.09" velocity="6.5"/>
    <!-- TODO -->
  </joint>
  <joint name="hip_pitch_1" type="revolute">
    <parent link="hip1_1"/>
    <child link="hip2_1"/>
    <origin xyz="0 0 -0.2"/>
    <axis xyz="0 -1 0"/>
    <limit effort="350" lower="-3.14" upper="3.14" velocity="6.5"/>
    <!-- TODO -->
  </joint>
  <joint name="knee_pitch_1" type="revolute">
    <parent link="hip2_1"/>
    <child link="knee_1"/>
    <origin xyz="0 0 -0.35"/>
    <axis xyz="0 -1 0"/>
    <limit effort="35000" lower="-3.14" upper="3.14" velocity="600.5"/>
    <!-- TODO -->
  </joint>
  <transmission name="t_hip_yaw_1">
    <type> transmission_interface/SimpleTransmission</type>
    <joint name="hip_yaw_1">
      <hardwareInterface>EffortJointInterface</hardwareInterface>
    </joint>
    <actuator name="motor_hip_yaw_1">
      <hardwareInterface>EffortJointInterface</hardwareInterface>
      <machanicalReduction>1</machanicalReduction>
    </actuator>
    <robotNamespace>/centauro</robotNamespace>
  </transmission>
  <transmission name="t_hip_pitch_1">
    <type> transmission_interface/SimpleTransmission</type>
    <joint name="hip_pitch_1">
      <hardwareInterface>EffortJointInterface</hardwareInterface>
    </joint>
    <actuator name="motor_hip_pitch_1">
      <hardwareInterface>EffortJointInterface</hardwareInterface>
      <machanicalReduction>1</machanicalReduction>
    </actuator>
    <robotNamespace>/centauro</robotNamespace>
  </transmission>
  <transmission name="t_knee_pitch_1">
    <type> transmission_interface/SimpleTransmission</type>
    <joint name="knee_pitch_1">
      <hardwareInterface>EffortJointInterface</hardwareInterface>
    </joint>
    <actuator name="motor_knee_pitch_1">
      <hardwareInterface>EffortJointInterface</hardwareInterface>
      <machanicalReduction>1</machanicalReduction>
    </actuator>
    <robotNamespace>/centauro</robotNamespace>
  </transmission>
  <!-- /actuators -->
  <link name="hip1_2">
    <inertial>
      <origin xyz="0.0 0.0 -0.175"/>
      <!-- TODO -->
      <mass value="2.0"/>
      <!-- org: 2 -->
      <inertia ixx="0.006237" ixy="0.0" ixz="0.0" iyy="0.005925" iyz="-0.0" izz="0.002488"/>
      <!-- <inertia ixx="0.01" ixy="0.01" ixz="0.01" iyy="0.01" iyz="0.01" izz="0.01"/> -->
    </inertial>
    <visual>
      <origin xyz="0 0 -0.1"/>
      <geometry>
        <box size="0.05 0.05 0.2"/>
        <!-- OK: from hip-yaw to pelvis (0.1) + from plevis to hip-pitch (0.1)-->
      </geometry>
      <material name="grey"/>
    </visual>
    <visual>
      <origin rpy="0 0 0" xyz="0 0 0"/>
      <geometry>
        <cylinder length="0.1" radius="0.05"/>
      </geometry>
      <material name="grey"/>
    </visual>
    <collision>
      <origin xyz="0 0 -0.1"/>
      <geometry>
        <box size="0.05 0.05 0.15"/>
        <!-- OK: from hip-yaw to pelvis (0.1) + from plevis to hip-pitch (0.1)-->
      </geometry>
      <material name="grey"/>
    </collision>
    <!-- <collision>
		<origin xyz="0 0 0" rpy="0 0 0" />
		<geometry>
			<cylinder length="${motors_length}" radius="${motors_radius}"/>
		</geometry>
		<material name="grey"/>
	</collision> -->
  </link>
  <link name="hip2_2">
    <inertial>
      <origin xyz="0.0 0.0 -0.233333"/>
      <mass value="4.5"/>
      <!-- org: 4.5 -->
      <inertia ixx="0.037113" ixy="0.0" ixz="0.0" iyy="0.0368" iyz="-0.0" izz="0.003988"/>
      <!-- <inertia ixx="0.01" ixy="0.01" ixz="0.01" iyy="0.01" iyz="0.01" izz="0.01"/> -->
    </inertial>
    <visual>
      <origin xyz="0 0 -0.175"/>
      <geometry>
        <box size="0.05 0.05 0.35"/>
        <!-- OK -->
      </geometry>
      <material name="blue"/>
    </visual>
    <visual>
      <origin rpy="1.5707963268 0 0" xyz="0 0 0"/>
      <geometry>
        <cylinder length="0.1" radius="0.05"/>
      </geometry>
      <material name="blue"/>
    </visual>
    <collision>
      <origin xyz="0 0 -0.175"/>
      <geometry>
        <box size="0.05 0.05 0.3"/>
        <!-- OK -->
      </geometry>
      <material name="blue"/>
    </collision>
    <!-- <collision>
		<origin xyz="0 0 0" rpy="${PI/2} 0 0" />
		<geometry>
			<cylinder length="${motors_length}" radius="${motors_radius}"/>
		</geometry>
		<material name="blue"/>
	</collision> -->
  </link>
  <link name="knee_2">
    <inertial>
      <origin xyz="0.0 0.0 -0.15"/>
      <!-- TODO -->
      <mass value="3.5"/>
      <!-- org: 3.5, foot un modeled-->
      <inertia ixx="0.004433" ixy="0.0" ixz="0.0" iyy="0.004433" iyz="0.0" izz="0.0021"/>
      <!--	<inertia ixx="0.01" ixy="0.01" ixz="0.01" iyy="0.01" iyz="0.01" izz="0.01"/>  -->
    </inertial>
    <visual>
      <origin xyz="0 0 -0.125"/>
      <geometry>
        <box size="0.05 0.05 0.25"/>
        <!-- OK: foot un modeled-->
      </geometry>
      <material name="grey"/>
    </visual>
    <visual>
      <origin rpy="1.5707963268 0 0" xyz="0 0 0"/>
      <geometry>
        <cylinder length="0.1" radius="0.05"/>
      </geometry>
      <material name="blue"/>
    </visual>
    <visual>
      <origin xyz="0 0 -0.25"/>
      <geometry>
        <sphere radius="0.05"/>
      </geometry>
      <material name="blue"/>
    </visual>
    <collision>
      <origin xyz="0 0 -0.125"/>
      <geometry>
        <box size="0.05 0.05 0.2"/>
        <!-- OK: foot un modeled-->
      </geometry>
      <material name="grey"/>
    </collision>
    <!--	<collision>
		<origin xyz="0 0 0" rpy="${PI/2} 0 0" />
		<geometry>
			<cylinder length="${motors_length}" radius="${motors_radius}"/>
		</geometry>
		<material name="blue"/>
	</collision> -->
    <collision>
      <origin xyz="0 0 -0.25"/>
      <geometry>
        <sphere radius="0.05"/>
      </geometry>
      <material name="blue"/>
    </collision>
  </link>
  <!-- ftsensor -->
  <!--<link name="ft_foot_${leg_num}">
  <inertial>
    <mass value="0.001"/>
    <origin xyz="0 0 0"/>
    <inertia ixx="1.0E-6" ixy="0" ixz="0" iyy="1.0E-6" iyz="0" izz="1.0E-6"/>
  </inertial>
  <visual>
      <origin rpy="0 0 0" xyz="0 0 0"/>
      <geometry>
        <box size="0.01 0.01 0.01"/>
      </geometry>
  </visual>
</link>-->
  <!-- /wheels -->
  <joint name="hip_yaw_2" type="revolute">
    <parent link="pelvis"/>
    <child link="hip1_2"/>
    <origin rpy="0 0 1.5707963268" xyz="0.3 -0.15 0"/>
    <axis xyz="0 0 1"/>
    <limit effort="350" lower="-2.09" upper="2.09" velocity="6.5"/>
    <!-- TODO -->
  </joint>
  <joint name="hip_pitch_2" type="revolute">
    <parent link="hip1_2"/>
    <child link="hip2_2"/>
    <origin xyz="0 0 -0.2"/>
    <axis xyz="0 1 0"/>
    <limit effort="350" lower="-3.14" upper="3.14" velocity="6.5"/>
    <!-- TODO -->
  </joint>
  <joint name="knee_pitch_2" type="revolute">
    <parent link="hip2_2"/>
    <child link="knee_2"/>
    <origin xyz="0 0 -0.35"/>
    <axis xyz="0 1 0"/>
    <limit effort="35000" lower="-3.14" upper="3.14" velocity="600.5"/>
    <!-- TODO -->
  </joint>
  <transmission name="t_hip_yaw_2">
    <type> transmission_interface/SimpleTransmission</type>
    <joint name="hip_yaw_2">
      <hardwareInterface>EffortJointInterface</hardwareInterface>
    </joint>
    <actuator name="motor_hip_yaw_2">
      <hardwareInterface>EffortJointInterface</hardwareInterface>
      <machanicalReduction>1</machanicalReduction>
    </actuator>
    <robotNamespace>/centauro</robotNamespace>
  </transmission>
  <transmission name="t_hip_pitch_2">
    <type> transmission_interface/SimpleTransmission</type>
    <joint name="hip_pitch_2">
      <hardwareInterface>EffortJointInterface</hardwareInterface>
    </joint>
    <actuator name="motor_hip_pitch_2">
      <hardwareInterface>EffortJointInterface</hardwareInterface>
      <machanicalReduction>1</machanicalReduction>
    </actuator>
    <robotNamespace>/centauro</robotNamespace>
  </transmission>
  <transmission name="t_knee_pitch_2">
    <type> transmission_interface/SimpleTransmission</type>
    <joint name="knee_pitch_2">
      <hardwareInterface>EffortJointInterface</hardwareInterface>
    </joint>
    <actuator name="motor_knee_pitch_2">
      <hardwareInterface>EffortJointInterface</hardwareInterface>
      <machanicalReduction>1</machanicalReduction>
    </actuator>
    <robotNamespace>/centauro</robotNamespace>
  </transmission>
  <!-- /actuators -->
  <link name="hip1_3">
    <inertial>
      <origin xyz="0.0 0.0 -0.175"/>
      <!-- TODO -->
      <mass value="2.0"/>
      <!-- org: 2 -->
      <inertia ixx="0.006237" ixy="0.0" ixz="0.0" iyy="0.005925" iyz="-0.0" izz="0.002488"/>
      <!-- <inertia ixx="0.01" ixy="0.01" ixz="0.01" iyy="0.01" iyz="0.01" izz="0.01"/> -->
    </inertial>
    <visual>
      <origin xyz="0 0 -0.1"/>
      <geometry>
        <box size="0.05 0.05 0.2"/>
        <!-- OK: from hip-yaw to pelvis (0.1) + from plevis to hip-pitch (0.1)-->
      </geometry>
      <material name="grey"/>
    </visual>
    <visual>
      <origin rpy="0 0 0" xyz="0 0 0"/>
      <geometry>
        <cylinder length="0.1" radius="0.05"/>
      </geometry>
      <material name="grey"/>
    </visual>
    <collision>
      <origin xyz="0 0 -0.1"/>
      <geometry>
        <box size="0.05 0.05 0.15"/>
        <!-- OK: from hip-yaw to pelvis (0.1) + from plevis to hip-pitch (0.1)-->
      </geometry>
      <material name="grey"/>
    </collision>
    <!-- <collision>
		<origin xyz="0 0 0" rpy="0 0 0" />
		<geometry>
			<cylinder length="${motors_length}" radius="${motors_radius}"/>
		</geometry>
		<material name="grey"/>
	</collision> -->
  </link>
  <link name="hip2_3">
    <inertial>
      <origin xyz="0.0 0.0 -0.233333"/>
      <mass value="4.5"/>
      <!-- org: 4.5 -->
      <inertia ixx="0.037113" ixy="0.0" ixz="0.0" iyy="0.0368" iyz="-0.0" izz="0.003988"/>
      <!-- <inertia ixx="0.01" ixy="0.01" ixz="0.01" iyy="0.01" iyz="0.01" izz="0.01"/> -->
    </inertial>
    <visual>
      <origin xyz="0 0 -0.175"/>
      <geometry>
        <box size="0.05 0.05 0.35"/>
        <!-- OK -->
      </geometry>
      <material name="blue"/>
    </visual>
    <visual>
      <origin rpy="1.5707963268 0 0" xyz="0 0 0"/>
      <geometry>
        <cylinder length="0.1" radius="0.05"/>
      </geometry>
      <material name="blue"/>
    </visual>
    <collision>
      <origin xyz="0 0 -0.175"/>
      <geometry>
        <box size="0.05 0.05 0.3"/>
        <!-- OK -->
      </geometry>
      <material name="blue"/>
    </collision>
    <!-- <collision>
		<origin xyz="0 0 0" rpy="${PI/2} 0 0" />
		<geometry>
			<cylinder length="${motors_length}" radius="${motors_radius}"/>
		</geometry>
		<material name="blue"/>
	</collision> -->
  </link>
  <link name="knee_3">
    <inertial>
      <origin xyz="0.0 0.0 -0.15"/>
      <!-- TODO -->
      <mass value="3.5"/>
      <!-- org: 3.5, foot un modeled-->
      <inertia ixx="0.004433" ixy="0.0" ixz="0.0" iyy="0.004433" iyz="0.0" izz="0.0021"/>
      <!--	<inertia ixx="0.01" ixy="0.01" ixz="0.01" iyy="0.01" iyz="0.01" izz="0.01"/>  -->
    </inertial>
    <visual>
      <origin xyz="0 0 -0.125"/>
      <geometry>
        <box size="0.05 0.05 0.25"/>
        <!-- OK: foot un modeled-->
      </geometry>
      <material name="grey"/>
    </visual>
    <visual>
      <origin rpy="1.5707963268 0 0" xyz="0 0 0"/>
      <geometry>
        <cylinder length="0.1" radius="0.05"/>
      </geometry>
      <material name="blue"/>
    </visual>
    <visual>
      <origin xyz="0 0 -0.25"/>
      <geometry>
        <sphere radius="0.05"/>
      </geometry>
      <material name="blue"/>
    </visual>
    <collision>
      <origin xyz="0 0 -0.125"/>
      <geometry>
        <box size="0.05 0.05 0.2"/>
        <!-- OK: foot un modeled-->
      </geometry>
      <material name="grey"/>
    </collision>
    <!--	<collision>
		<origin xyz="0 0 0" rpy="${PI/2} 0 0" />
		<geometry>
			<cylinder length="${motors_length}" radius="${motors_radius}"/>
		</geometry>
		<material name="blue"/>
	</collision> -->
    <collision>
      <origin xyz="0 0 -0.25"/>
      <geometry>
        <sphere radius="0.05"/>
      </geometry>
      <material name="blue"/>
    </collision>
  </link>
  <!-- ftsensor -->
  <!--<link name="ft_foot_${leg_num}">
  <inertial>
    <mass value="0.001"/>
    <origin xyz="0 0 0"/>
    <inertia ixx="1.0E-6" ixy="0" ixz="0" iyy="1.0E-6" iyz="0" izz="1.0E-6"/>
  </inertial>
  <visual>
      <origin rpy="0 0 0" xyz="0 0 0"/>
      <geometry>
        <box size="0.01 0.01 0.01"/>
      </geometry>
  </visual>
</link>-->
  <!-- /wheels -->
  <joint name="hip_yaw_3" type="revolute">
    <parent link="pelvis"/>
    <child link="hip1_3"/>
    <origin rpy="0 0 1.5707963268" xyz="-0.3 -0.15 0"/>
    <axis xyz="0 0 1"/>
    <limit effort="350" lower="-2.09" upper="2.09" velocity="6.5"/>
    <!-- TODO -->
  </joint>
  <joint name="hip_pitch_3" type="revolute">
    <parent link="hip1_3"/>
    <child link="hip2_3"/>
    <origin xyz="0 0 -0.2"/>
    <axis xyz="0 1 0"/>
    <limit effort="350" lower="-3.14" upper="3.14" velocity="6.5"/>
    <!-- TODO -->
  </joint>
  <joint name="knee_pitch_3" type="revolute">
    <parent link="hip2_3"/>
    <child link="knee_3"/>
    <origin xyz="0 0 -0.35"/>
    <axis xyz="0 1 0"/>
    <limit effort="35000" lower="-3.14" upper="3.14" velocity="600.5"/>
    <!-- TODO -->
  </joint>
  <transmission name="t_hip_yaw_3">
    <type> transmission_interface/SimpleTransmission</type>
    <joint name="hip_yaw_3">
      <hardwareInterface>EffortJointInterface</hardwareInterface>
    </joint>
    <actuator name="motor_hip_yaw_3">
      <hardwareInterface>EffortJointInterface</hardwareInterface>
      <machanicalReduction>1</machanicalReduction>
    </actuator>
    <robotNamespace>/centauro</robotNamespace>
  </transmission>
  <transmission name="t_hip_pitch_3">
    <type> transmission_interface/SimpleTransmission</type>
    <joint name="hip_pitch_3">
      <hardwareInterface>EffortJointInterface</hardwareInterface>
    </joint>
    <actuator name="motor_hip_pitch_3">
      <hardwareInterface>EffortJointInterface</hardwareInterface>
      <machanicalReduction>1</machanicalReduction>
    </actuator>
    <robotNamespace>/centauro</robotNamespace>
  </transmission>
  <transmission name="t_knee_pitch_3">
    <type> transmission_interface/SimpleTransmission</type>
    <joint name="knee_pitch_3">
      <hardwareInterface>EffortJointInterface</hardwareInterface>
    </joint>
    <actuator name="motor_knee_pitch_3">
      <hardwareInterface>EffortJointInterface</hardwareInterface>
      <machanicalReduction>1</machanicalReduction>
    </actuator>
    <robotNamespace>/centauro</robotNamespace>
  </transmission>
  <!-- /actuators -->
  <link name="hip1_4">
    <inertial>
      <origin xyz="0.0 0.0 -0.175"/>
      <!-- TODO -->
      <mass value="2.0"/>
      <!-- org: 2 -->
      <inertia ixx="0.006237" ixy="0.0" ixz="0.0" iyy="0.005925" iyz="-0.0" izz="0.002488"/>
      <!-- <inertia ixx="0.01" ixy="0.01" ixz="0.01" iyy="0.01" iyz="0.01" izz="0.01"/> -->
    </inertial>
    <visual>
      <origin xyz="0 0 -0.1"/>
      <geometry>
        <box size="0.05 0.05 0.2"/>
        <!-- OK: from hip-yaw to pelvis (0.1) + from plevis to hip-pitch (0.1)-->
      </geometry>
      <material name="grey"/>
    </visual>
    <visual>
      <origin rpy="0 0 0" xyz="0 0 0"/>
      <geometry>
        <cylinder length="0.1" radius="0.05"/>
      </geometry>
      <material name="grey"/>
    </visual>
    <collision>
      <origin xyz="0 0 -0.1"/>
      <geometry>
        <box size="0.05 0.05 0.15"/>
        <!-- OK: from hip-yaw to pelvis (0.1) + from plevis to hip-pitch (0.1)-->
      </geometry>
      <material name="grey"/>
    </collision>
    <!-- <collision>
		<origin xyz="0 0 0" rpy="0 0 0" />
		<geometry>
			<cylinder length="${motors_length}" radius="${motors_radius}"/>
		</geometry>
		<material name="grey"/>
	</collision> -->
  </link>
  <link name="hip2_4">
    <inertial>
      <origin xyz="0.0 0.0 -0.233333"/>
      <mass value="4.5"/>
      <!-- org: 4.5 -->
      <inertia ixx="0.037113" ixy="0.0" ixz="0.0" iyy="0.0368" iyz="-0.0" izz="0.003988"/>
      <!-- <inertia ixx="0.01" ixy="0.01" ixz="0.01" iyy="0.01" iyz="0.01" izz="0.01"/> -->
    </inertial>
    <visual>
      <origin xyz="0 0 -0.175"/>
      <geometry>
        <box size="0.05 0.05 0.35"/>
        <!-- OK -->
      </geometry>
      <material name="blue"/>
    </visual>
    <visual>
      <origin rpy="1.5707963268 0 0" xyz="0 0 0"/>
      <geometry>
        <cylinder length="0.1" radius="0.05"/>
      </geometry>
      <material name="blue"/>
    </visual>
    <collision>
      <origin xyz="0 0 -0.175"/>
      <geometry>
        <box size="0.05 0.05 0.3"/>
        <!-- OK -->
      </geometry>
      <material name="blue"/>
    </collision>
    <!-- <collision>
		<origin xyz="0 0 0" rpy="${PI/2} 0 0" />
		<geometry>
			<cylinder length="${motors_length}" radius="${motors_radius}"/>
		</geometry>
		<material name="blue"/>
	</collision> -->
  </link>
  <link name="knee_4">
    <inertial>
      <origin xyz="0.0 0.0 -0.15"/>
      <!-- TODO -->
      <mass value="3.5"/>
      <!-- org: 3.5, foot un modeled-->
      <inertia ixx="0.004433" ixy="0.0" ixz="0.0" iyy="0.004433" iyz="0.0" izz="0.0021"/>
      <!--	<inertia ixx="0.01" ixy="0.01" ixz="0.01" iyy="0.01" iyz="0.01" izz="0.01"/>  -->
    </inertial>
    <visual>
      <origin xyz="0 0 -0.125"/>
      <geometry>
        <box size="0.05 0.05 0.25"/>
        <!-- OK: foot un modeled-->
      </geometry>
      <material name="grey"/>
    </visual>
    <visual>
      <origin rpy="1.5707963268 0 0" xyz="0 0 0"/>
      <geometry>
        <cylinder length="0.1" radius="0.05"/>
      </geometry>
      <material name="blue"/>
    </visual>
    <visual>
      <origin xyz="0 0 -0.25"/>
      <geometry>
        <sphere radius="0.05"/>
      </geometry>
      <material name="blue"/>
    </visual>
    <collision>
      <origin xyz="0 0 -0.125"/>
      <geometry>
        <box size="0.05 0.05 0.2"/>
        <!-- OK: foot un modeled-->
      </geometry>
      <material name="grey"/>
    </collision>
    <!--	<collision>
		<origin xyz="0 0 0" rpy="${PI/2} 0 0" />
		<geometry>
			<cylinder length="${motors_length}" radius="${motors_radius}"/>
		</geometry>
		<material name="blue"/>
	</collision> -->
    <collision>
      <origin xyz="0 0 -0.25"/>
      <geometry>
        <sphere radius="0.05"/>
      </geometry>
      <material name="blue"/>
    </collision>
  </link>
  <!-- ftsensor -->
  <!--<link name="ft_foot_${leg_num}">
  <inertial>
    <mass value="0.001"/>
    <origin xyz="0 0 0"/>
    <inertia ixx="1.0E-6" ixy="0" ixz="0" iyy="1.0E-6" iyz="0" izz="1.0E-6"/>
  </inertial>
  <visual>
      <origin rpy="0 0 0" xyz="0 0 0"/>
      <geometry>
        <box size="0.01 0.01 0.01"/>
      </geometry>
  </visual>
</link>-->
  <!-- /wheels -->
  <joint name="hip_yaw_4" type="revolute">
    <parent link="pelvis"/>
    <child link="hip1_4"/>
    <origin rpy="0 0 1.5707963268" xyz="-0.3 0.15 0"/>
    <axis xyz="0 0 -1"/>
    <limit effort="350" lower="-2.09" upper="2.09" velocity="6.5"/>
    <!-- TODO -->
  </joint>
  <joint name="hip_pitch_4" type="revolute">
    <parent link="hip1_4"/>
    <child link="hip2_4"/>
    <origin xyz="0 0 -0.2"/>
    <axis xyz="0 -1 0"/>
    <limit effort="350" lower="-3.14" upper="3.14" velocity="6.5"/>
    <!-- TODO -->
  </joint>
  <joint name="knee_pitch_4" type="revolute">
    <parent link="hip2_4"/>
    <child link="knee_4"/>
    <origin xyz="0 0 -0.35"/>
    <axis xyz="0 -1 0"/>
    <limit effort="35000" lower="-3.14" upper="3.14" velocity="600.5"/>
    <!-- TODO -->
  </joint>
  <transmission name="t_hip_yaw_4">
    <type> transmission_interface/SimpleTransmission</type>
    <joint name="hip_yaw_4">
      <hardwareInterface>EffortJointInterface</hardwareInterface>
    </joint>
    <actuator name="motor_hip_yaw_4">
      <hardwareInterface>EffortJointInterface</hardwareInterface>
      <machanicalReduction>1</machanicalReduction>
    </actuator>
    <robotNamespace>/centauro</robotNamespace>
  </transmission>
  <transmission name="t_hip_pitch_4">
    <type> transmission_interface/SimpleTransmission</type>
    <joint name="hip_pitch_4">
      <hardwareInterface>EffortJointInterface</hardwareInterface>
    </joint>
    <actuator name="motor_hip_pitch_4">
      <hardwareInterface>EffortJointInterface</hardwareInterface>
      <machanicalReduction>1</machanicalReduction>
    </actuator>
    <robotNamespace>/centauro</robotNamespace>
  </transmission>
  <transmission name="t_knee_pitch_4">
    <type> transmission_interface/SimpleTransmission</type>
    <joint name="knee_pitch_4">
      <hardwareInterface>EffortJointInterface</hardwareInterface>
    </joint>
    <actuator name="motor_knee_pitch_4">
      <hardwareInterface>EffortJointInterface</hardwareInterface>
      <machanicalReduction>1</machanicalReduction>
    </actuator>
    <robotNamespace>/centauro</robotNamespace>
  </transmission>
  <!-- /actuators -->
  <!-- /legs -->
</robot>
